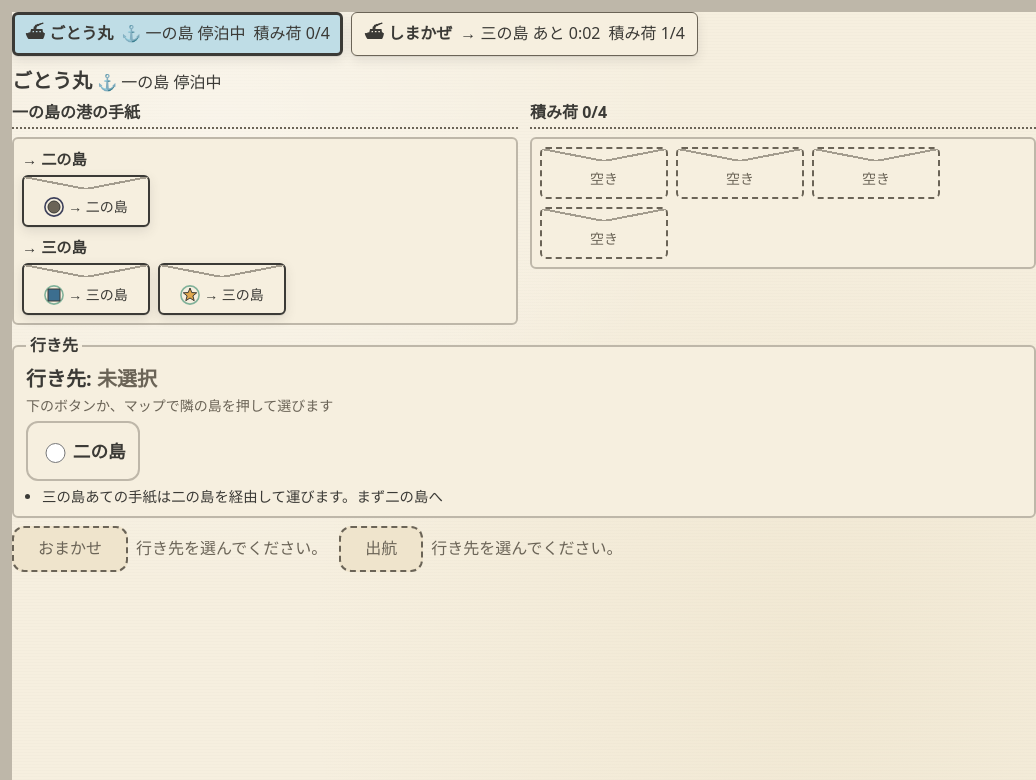
it: 行き先の選び方と経由の手紙（#318） › FP-15 行き先を大きく出す: 未選択なら選び方、選ぶと「行き先: 二の島」
Click the radio button labelled "二の島" at (55, 453), box [45,442,66,463]
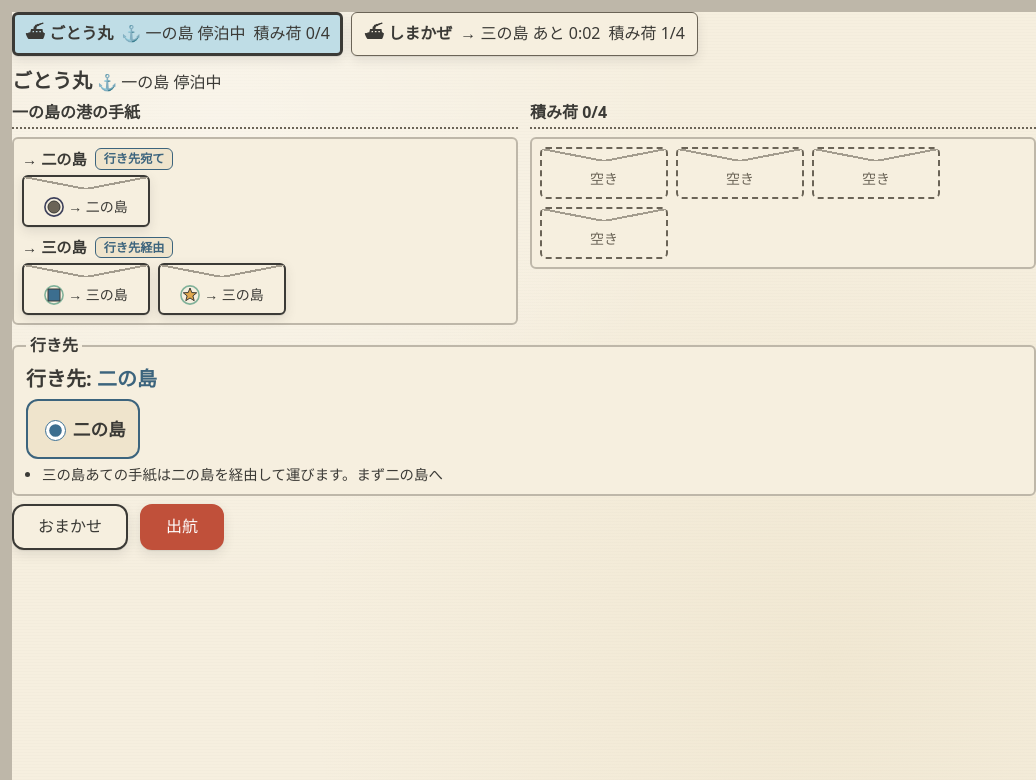
Expected: the element with class "ferry-panel__destination-current" reads "行き先: 二の島", [26,365,157,392]
